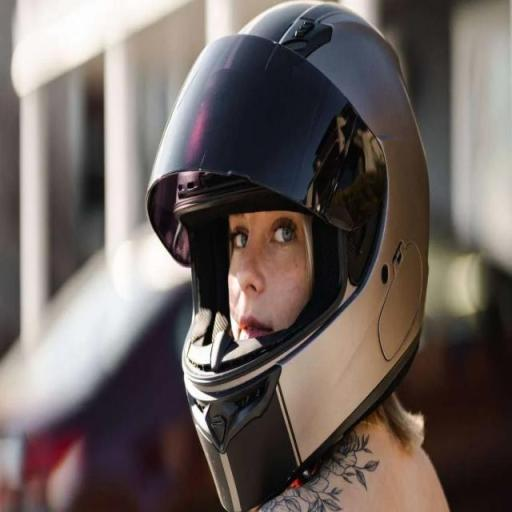Helmet: (148, 2, 428, 510)
